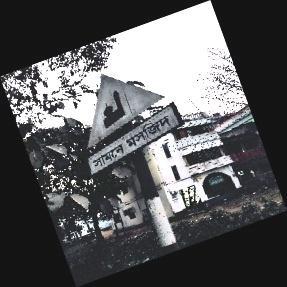Mosque in front: (87, 74, 183, 177)
